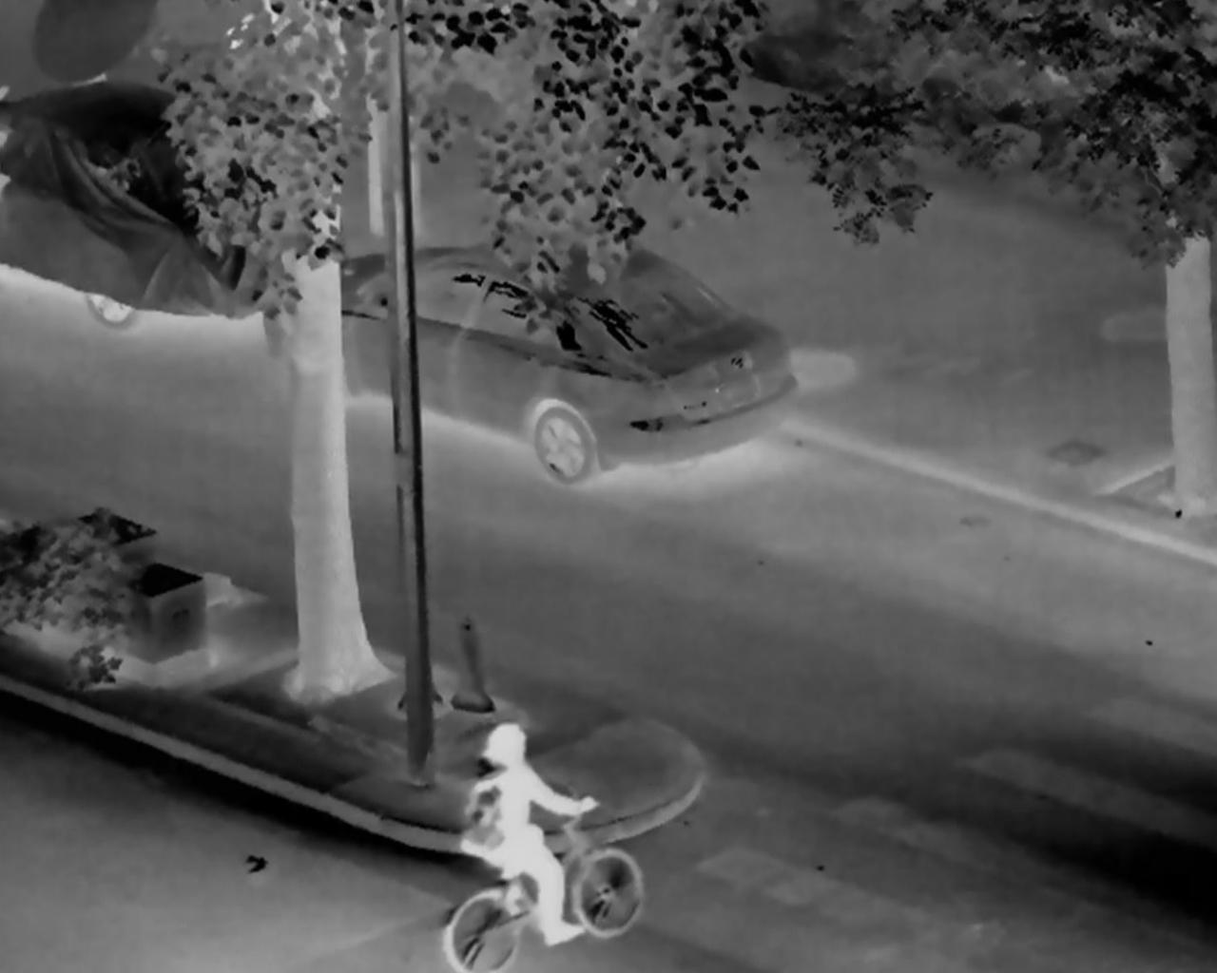person: (463, 721, 595, 944)
